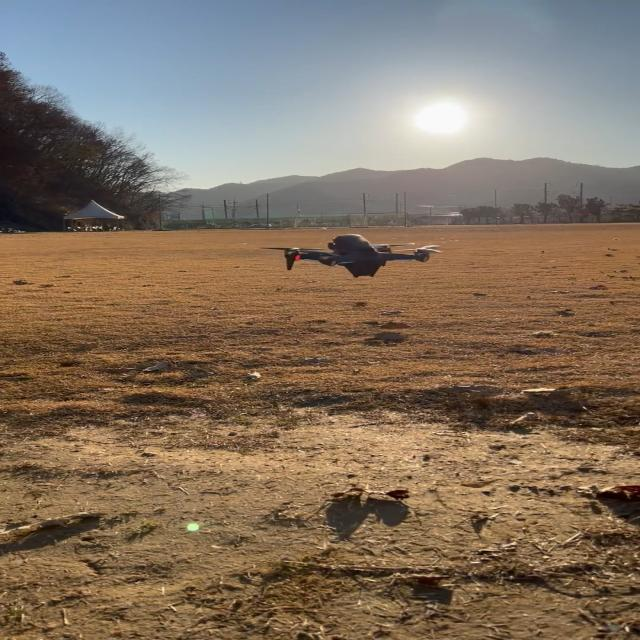drone: (258, 233, 442, 278)
